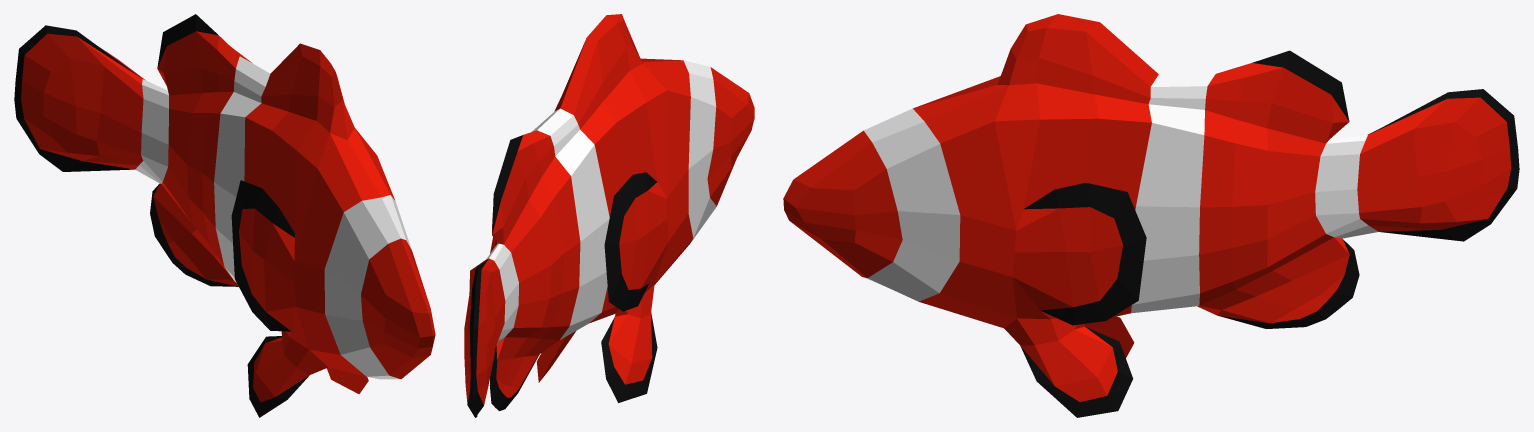
File: uploads_files_2454913_ClownFish.obj
3 views of the same model, side by side, from view 1: azimuth 30°, elevation 25°; view 2: azimuth 150°, elevation 25°; view 3: azimuth 270°, elevation 25° (orthographic). The views are drawn at different scales.
Visible parts, largest first — view 1: ClownFish_ClownFishMesh; view 2: ClownFish_ClownFishMesh; view 3: ClownFish_ClownFishMesh.
Part boxes in pixels (left/top/right/bottom): ClownFish_ClownFishMesh: left=14, top=14, right=435, bottom=417; ClownFish_ClownFishMesh: left=464, top=14, right=754, bottom=417; ClownFish_ClownFishMesh: left=783, top=14, right=1519, bottom=417.
Bounding box in the file's own units: 0.1355 × 0.3372 × 0.5928.
